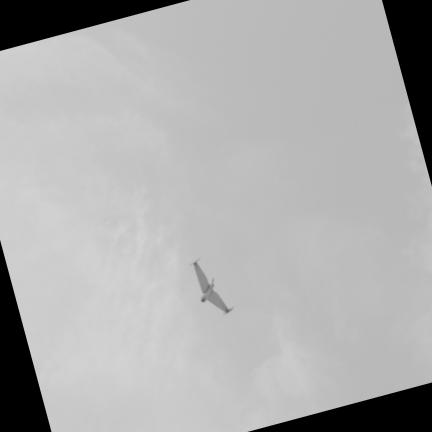Shahed: (189, 257, 232, 313)
